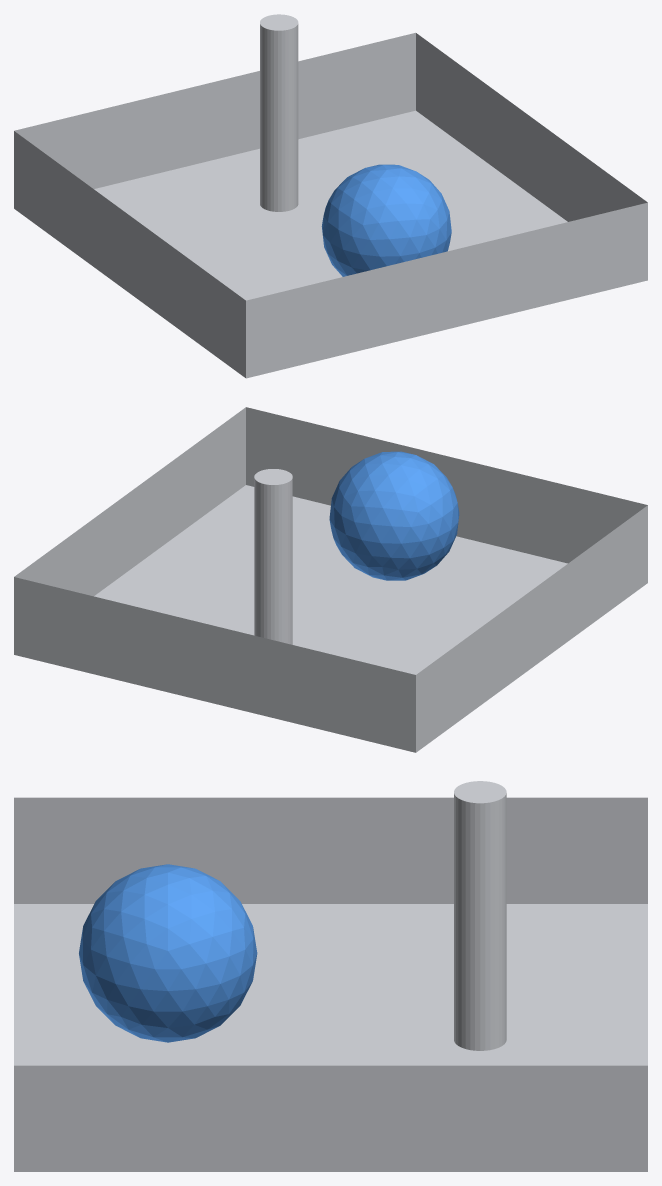
The model's file is Softbody.glb.
3 renders of one model, top to bottom at view 1: azimuth 30°, elevation 25°; view 2: azimuth 150°, elevation 25°; view 3: azimuth 270°, elevation 25°, orthographic. The views are drawn at different scales.
Parts seen in each view (by area): view 1: Plane.001, Icosphere.001; view 2: Plane.001, Icosphere.001; view 3: Plane.001, Icosphere.001.
Part boxes in pixels (<box>): Plane.001: <box>14,14,647,378</box>; Icosphere.001: <box>321,164,451,276</box>; Plane.001: <box>14,407,647,752</box>; Icosphere.001: <box>329,451,459,580</box>; Plane.001: <box>14,781,647,1171</box>; Icosphere.001: <box>79,864,257,1042</box>.
Bounding box in the file's own units: 7.1 × 3.38 × 7.1.
